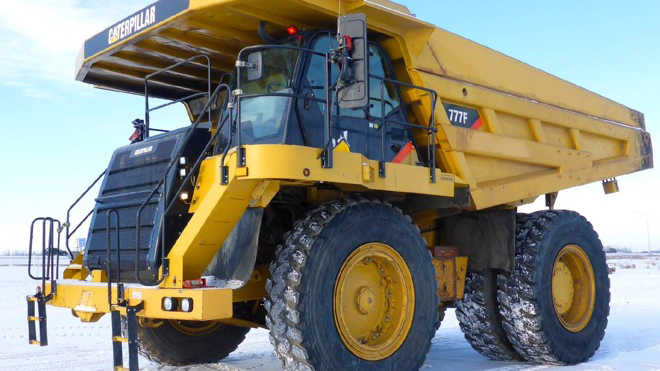truck: (55, 1, 652, 371)
